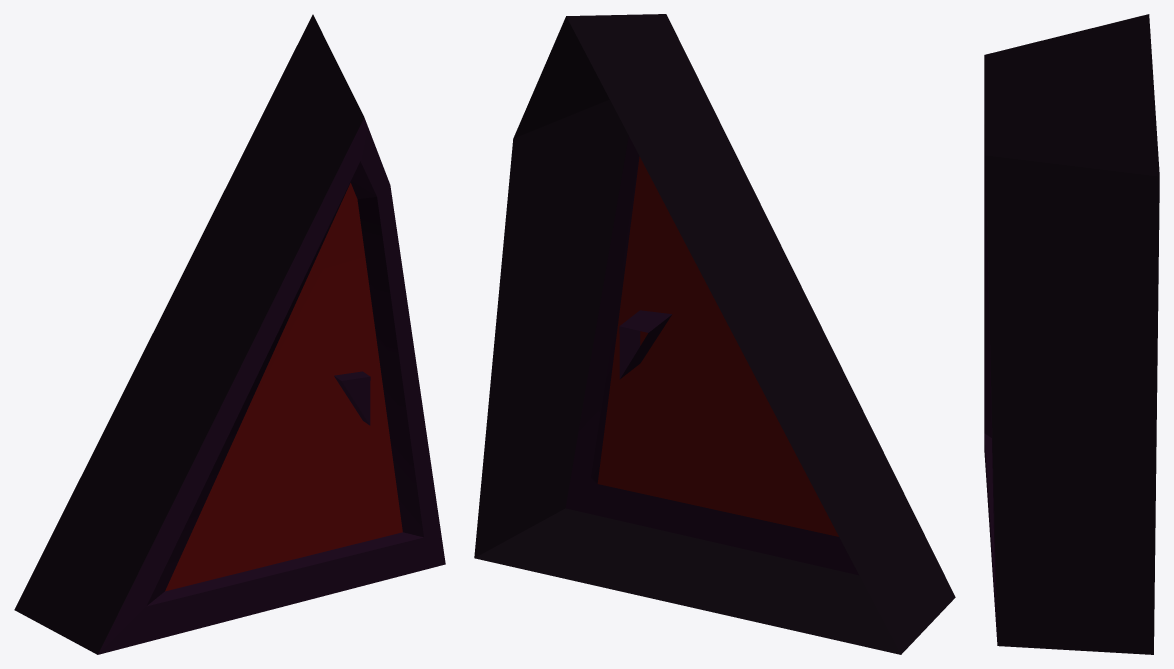
Rendered from c_house_door_ad.fbx.
The picture shows the model from 3 angles, left to right: view 1: azimuth 30°, elevation 25°; view 2: azimuth 150°, elevation 25°; view 3: azimuth 270°, elevation 25°; orthographic projection. The views are drawn at different scales.
Visible parts, largest first — view 1: c_house_door_ad; view 2: c_house_door_ad; view 3: c_house_door_ad.
Part boxes in pixels (bbox=[...]): c_house_door_ad: bbox=[14, 14, 445, 654]; c_house_door_ad: bbox=[474, 14, 955, 654]; c_house_door_ad: bbox=[984, 14, 1159, 654].
Bounding box in the file's own units: 1.9 × 2.43 × 0.6511.
